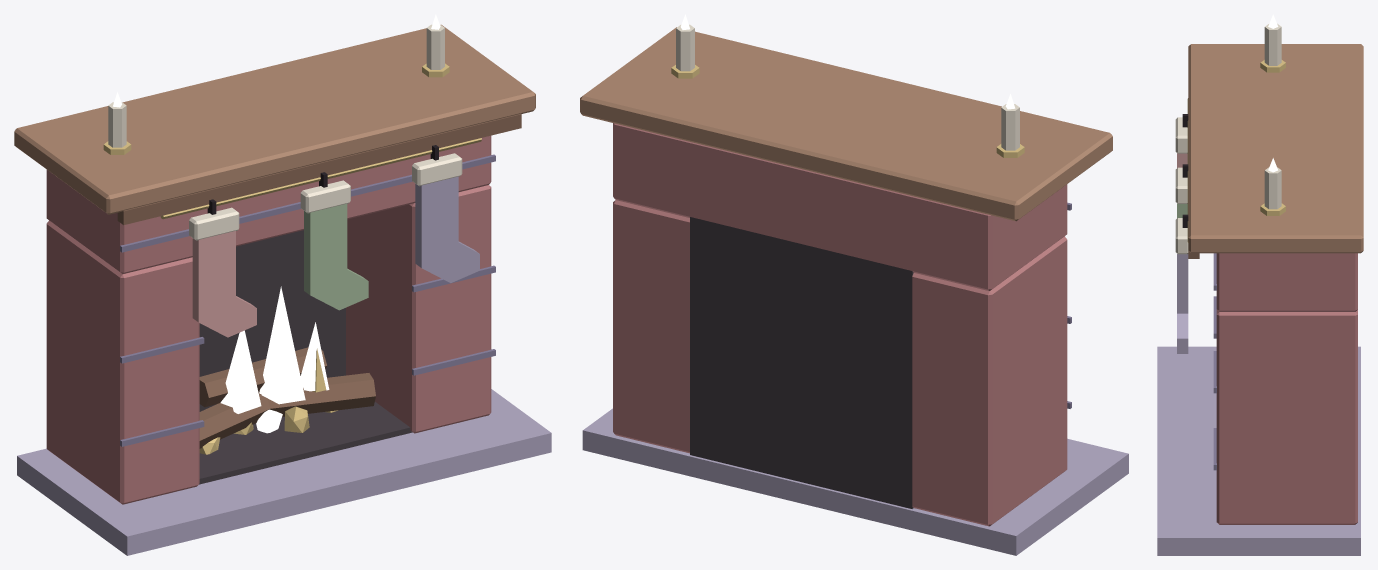
The model's file is sb_fireplace.glb.
The picture shows the model from 3 angles, left to right: view 1: azimuth 30°, elevation 25°; view 2: azimuth 150°, elevation 25°; view 3: azimuth 270°, elevation 25°; orthographic projection. The views are drawn at different scales.
Parts seen in each view (by area): view 1: fireplace; view 2: fireplace; view 3: fireplace.
Part boxes in pixels (x1,y1,x2,y2): fireplace: (14, 14, 551, 555); fireplace: (580, 14, 1128, 555); fireplace: (1157, 14, 1363, 555).
Size of the model in its own units: 1.62 by 1.46 by 0.73.
